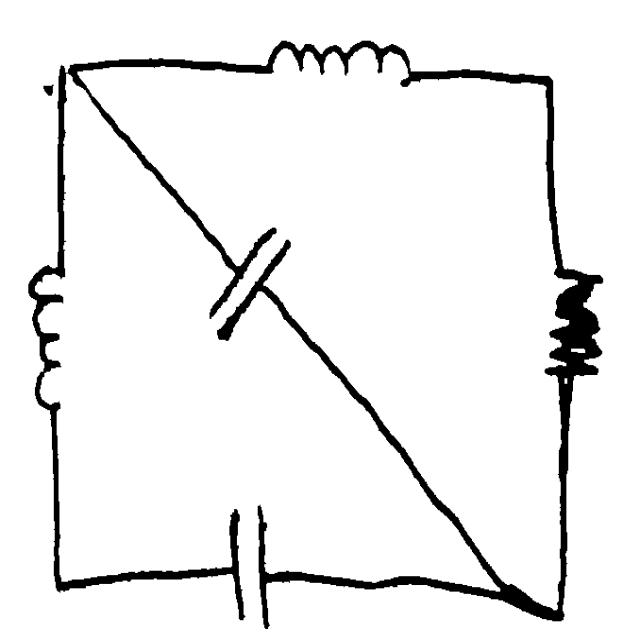capacitor: (204, 219, 299, 353), (213, 495, 287, 634)
inductor: (254, 24, 418, 99), (17, 253, 86, 430)
